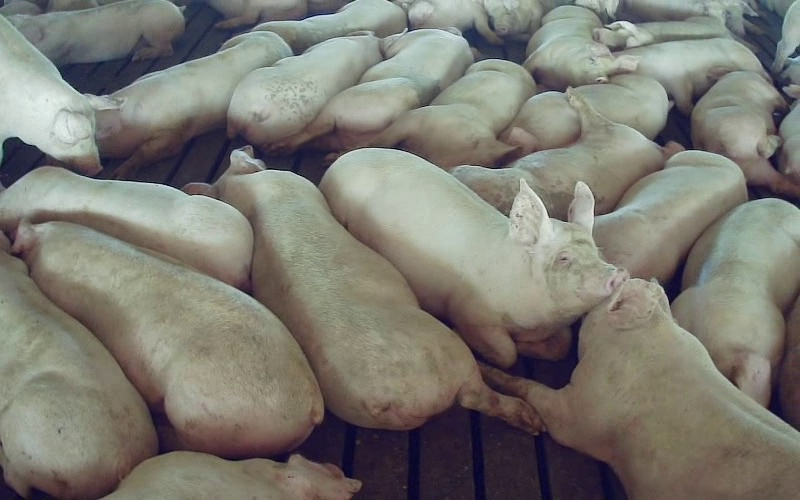pig: (184, 148, 542, 431), (13, 222, 322, 456), (482, 280, 799, 499), (320, 149, 625, 366), (451, 89, 682, 219), (96, 31, 291, 177), (671, 198, 799, 406), (285, 29, 472, 150), (593, 151, 746, 282), (227, 32, 400, 145), (370, 59, 534, 168), (691, 65, 799, 197), (102, 451, 360, 499), (8, 0, 184, 65), (523, 6, 638, 90), (253, 0, 406, 53), (593, 16, 731, 50)
